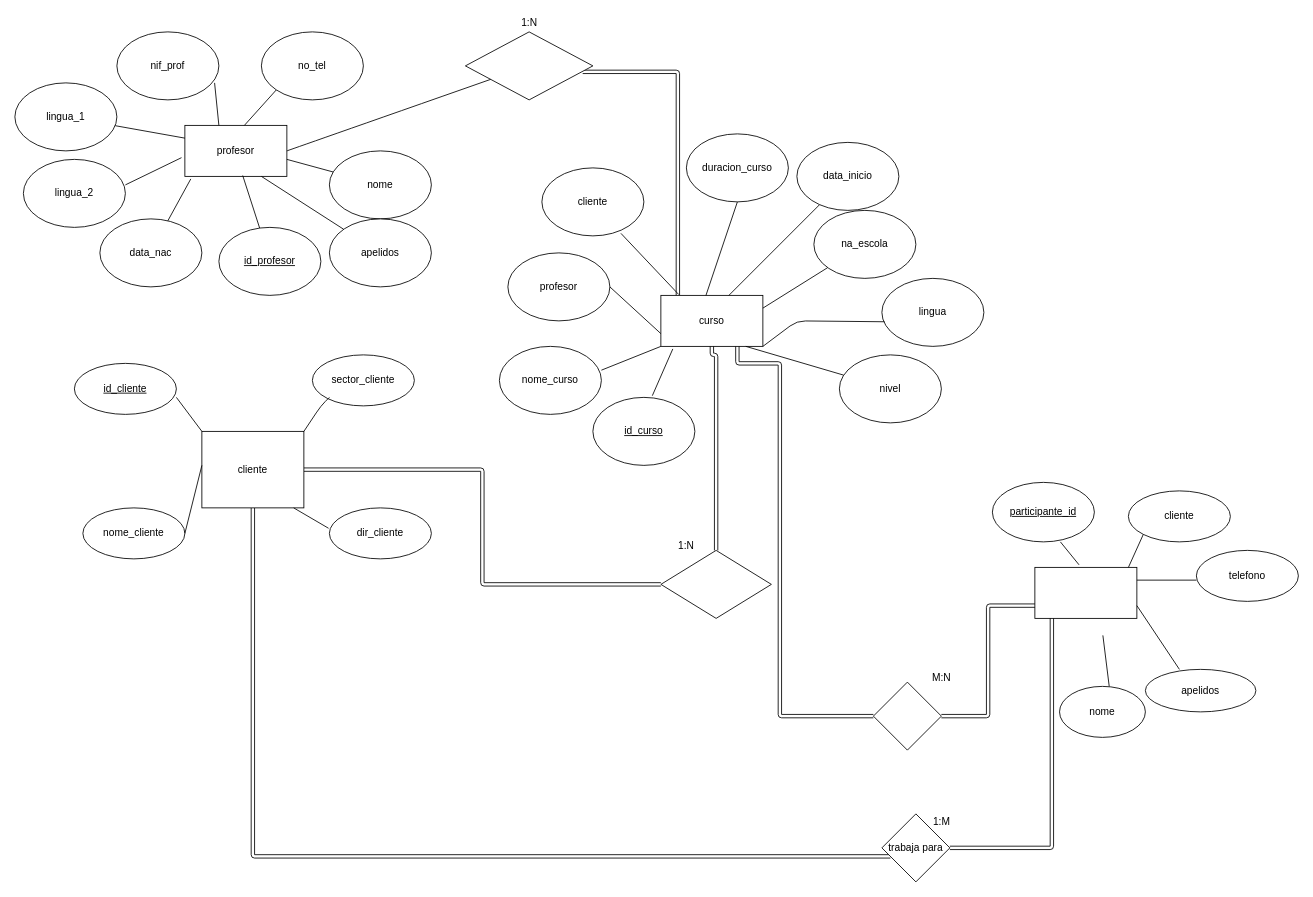
This 1313x897 diagram has some shape labels left out. Each missing label, with the centre of its shape:
enseña: point 529,65
ofrece: point 715,584
participante: point 1085,592
recibe: point 907,715
